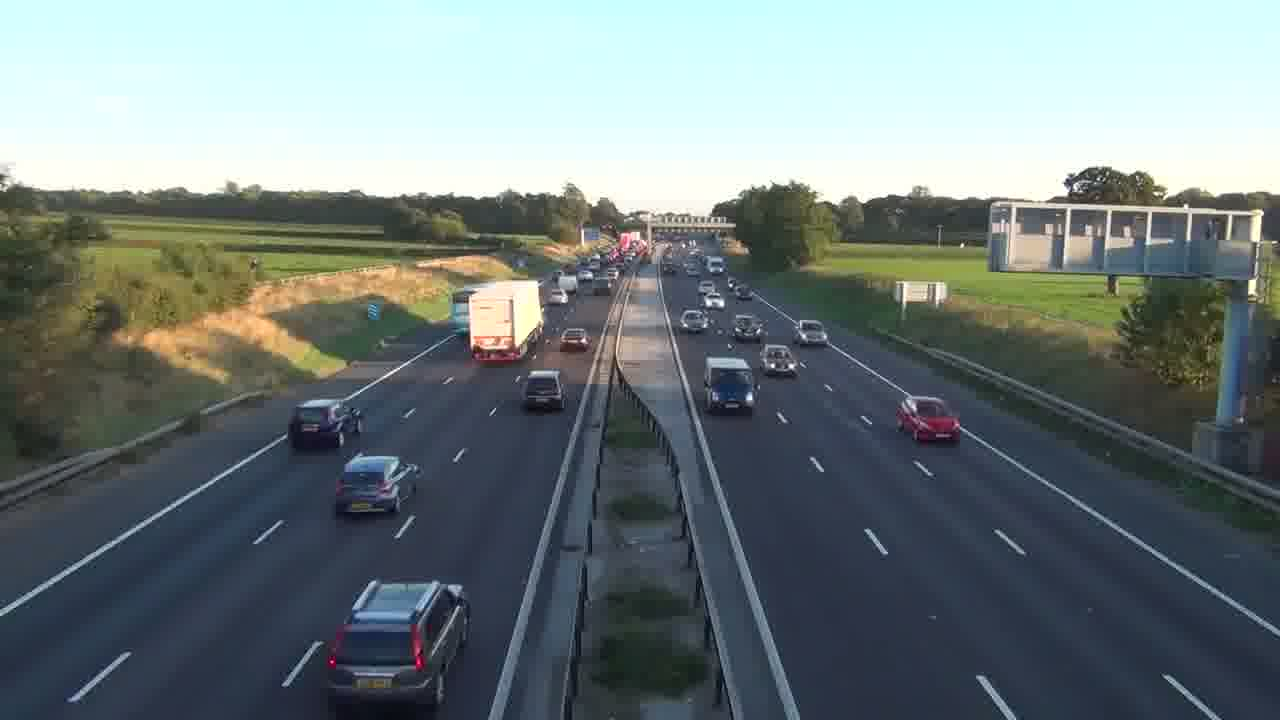car: (334, 454, 420, 516), (895, 395, 961, 446), (287, 398, 345, 450), (559, 326, 591, 352), (680, 307, 709, 333)
truck: (324, 577, 472, 713), (468, 280, 544, 364), (703, 354, 757, 416)
